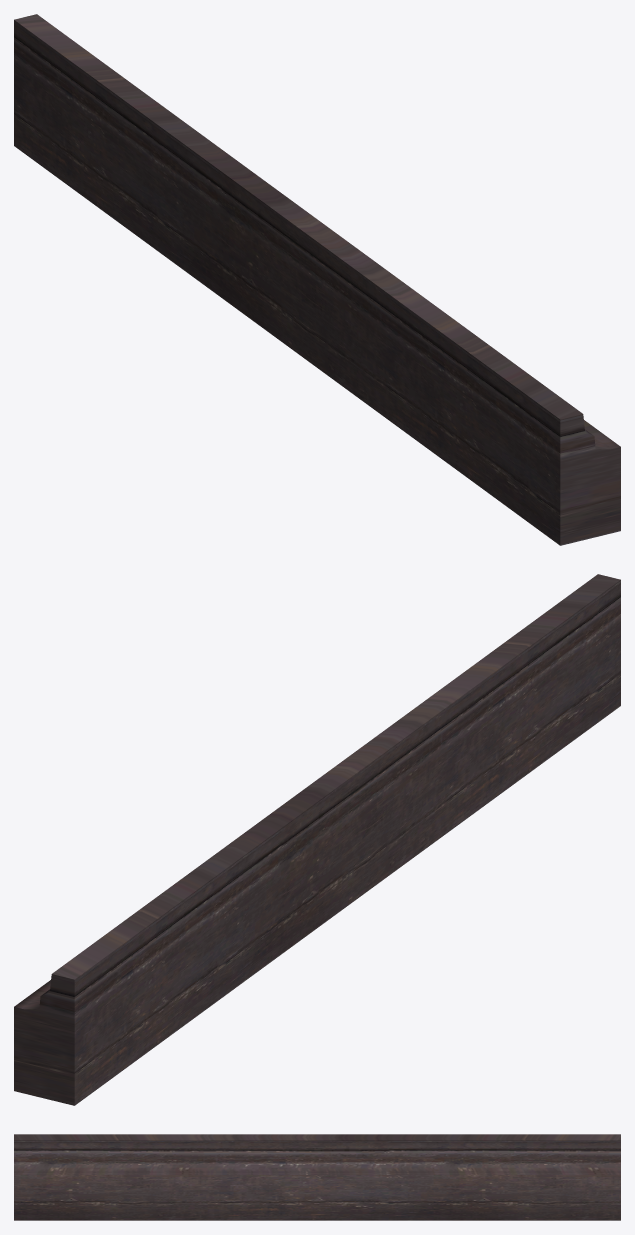
File: souphalftrim002.obj
3 views of the same model, one above another, from view 1: azimuth 30°, elevation 25°; view 2: azimuth 150°, elevation 25°; view 3: azimuth 270°, elevation 25° (orthographic). The views are drawn at different scales.
Parts seen in each view (by area): view 1: souphalftrim002_high_1; view 2: souphalftrim002_high_1; view 3: souphalftrim002_high_1.
Boxes of the visible parts, x1=… form: souphalftrim002_high_1: x1=14, y1=14, x2=620, y2=545; souphalftrim002_high_1: x1=14, y1=574, x2=620, y2=1105; souphalftrim002_high_1: x1=14, y1=1134, x2=620, y2=1220.
Bounding box in the file's own units: 0.0861 × 0.1712 × 1.34.
